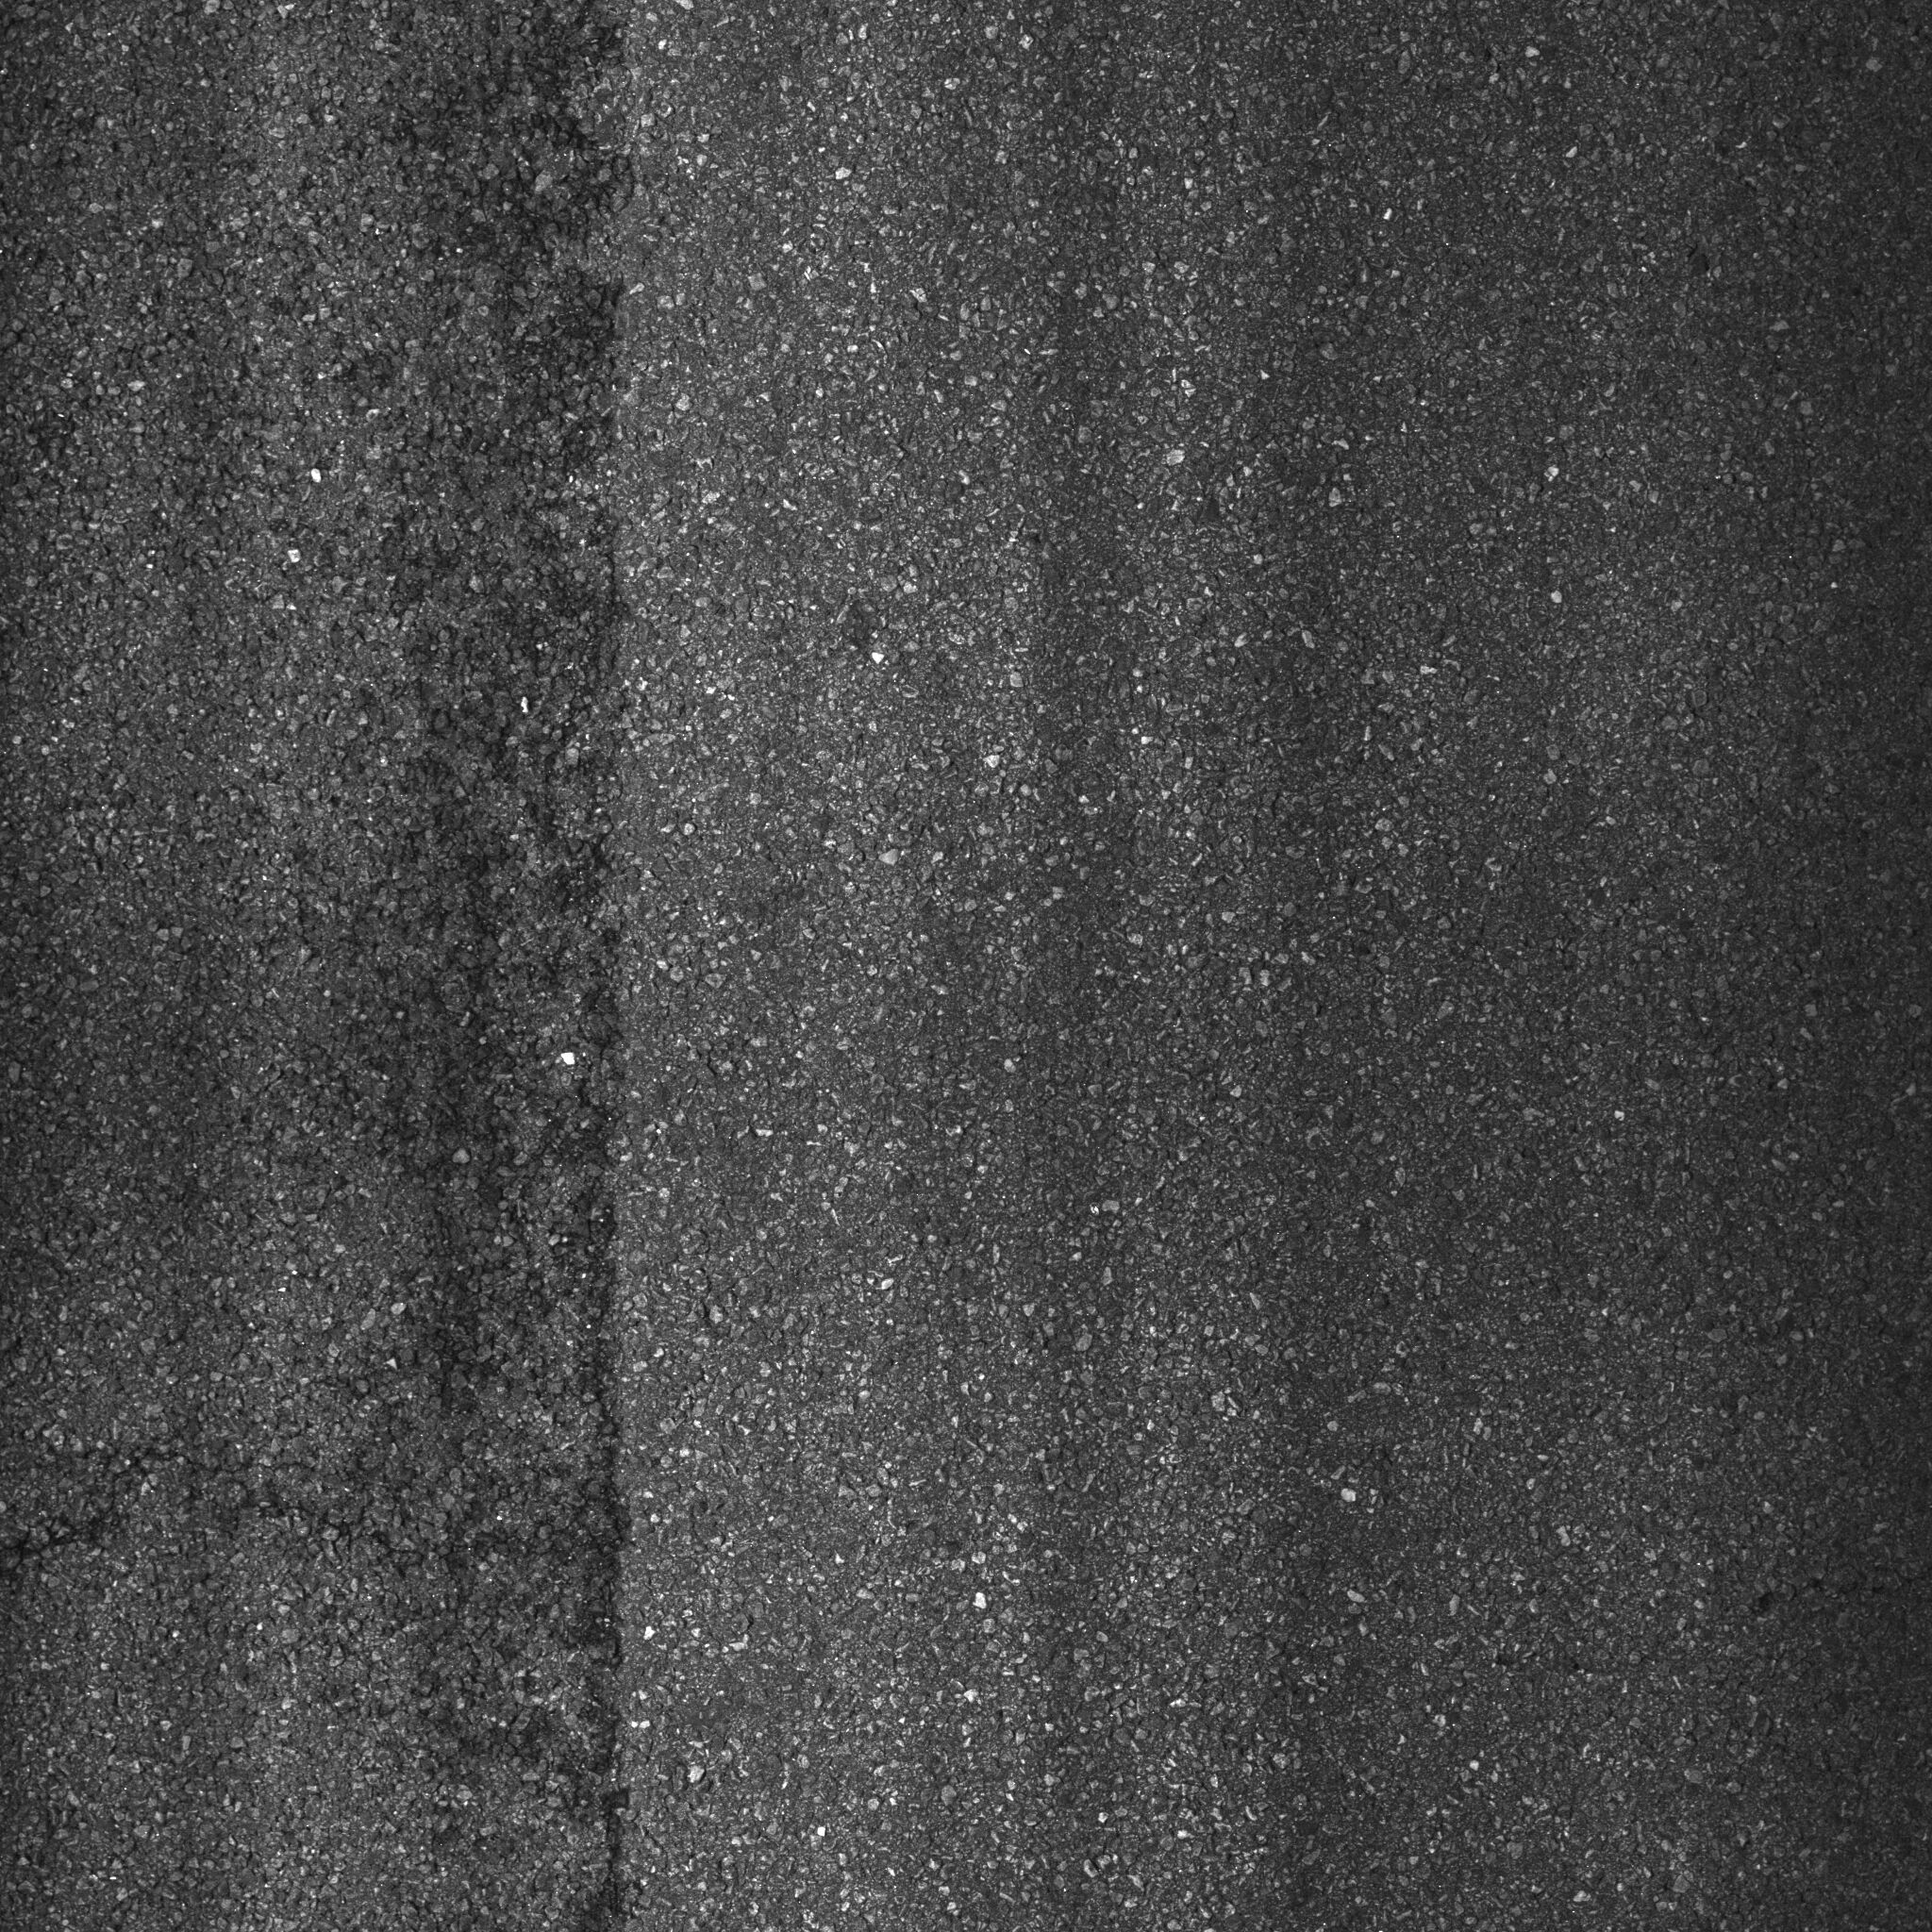transeverse: (5, 1422, 630, 1601)
